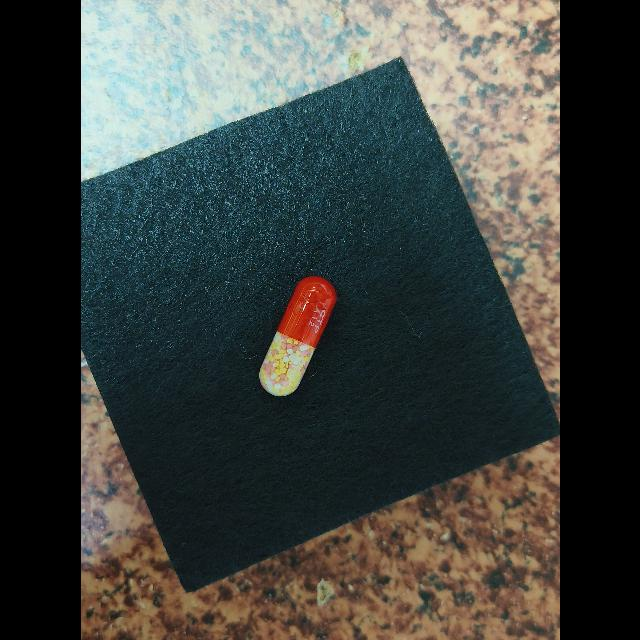Intact Capsule: (259, 276, 336, 396)
